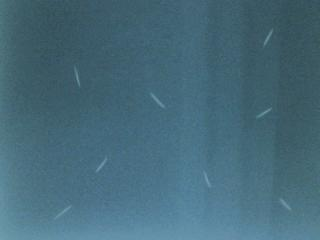scratch: (194, 165, 222, 195), (143, 86, 171, 114), (272, 191, 300, 219), (48, 201, 79, 223), (254, 25, 280, 50), (66, 63, 90, 90), (251, 102, 278, 123), (92, 153, 113, 174)
